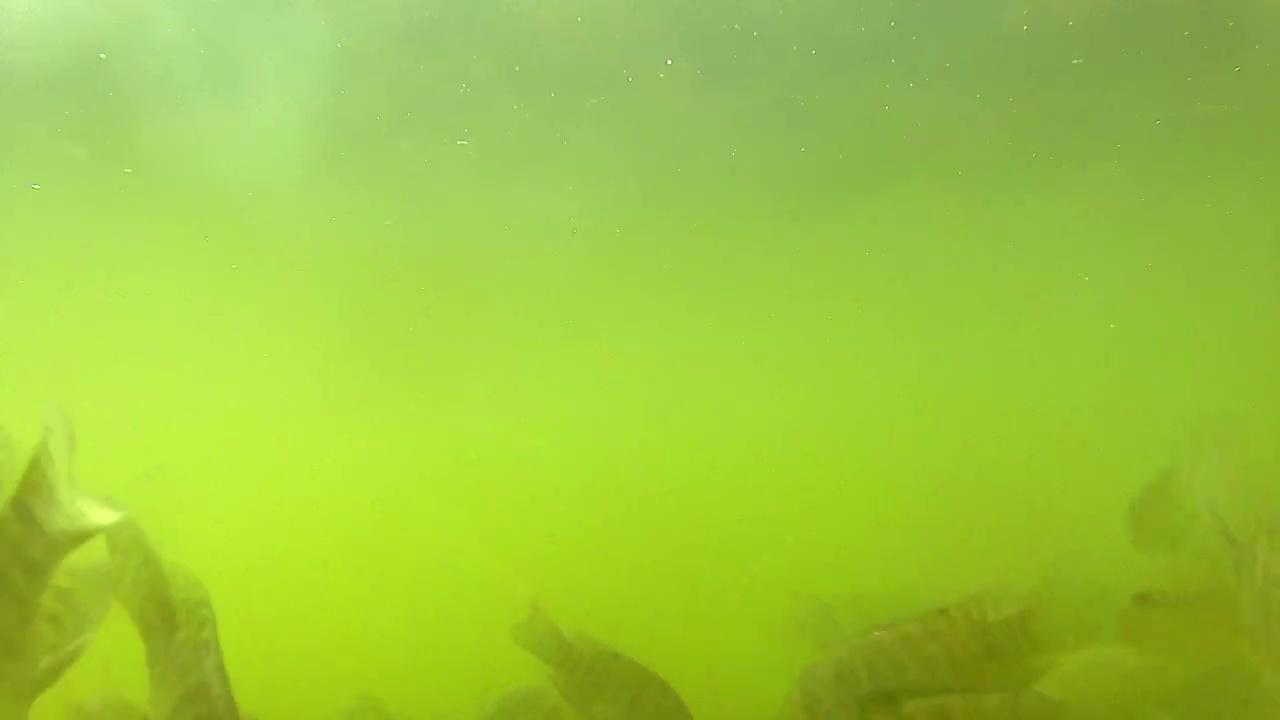Tilapia: (775, 582, 1082, 720), (507, 594, 700, 720)
